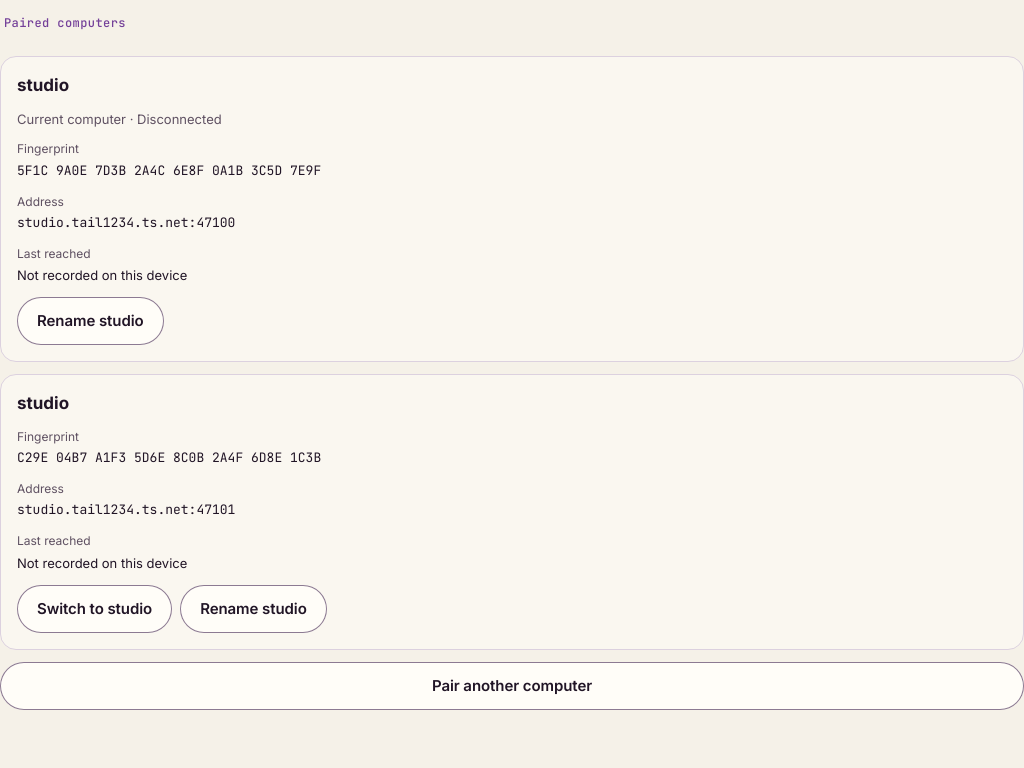
Test: renames a paired computer on this device
This screenshot has width=1024, height=768.
Click the button "Rename studio" below "studio.tail1234.ts.net:47101" at (253, 608), box [180,584,327,632]
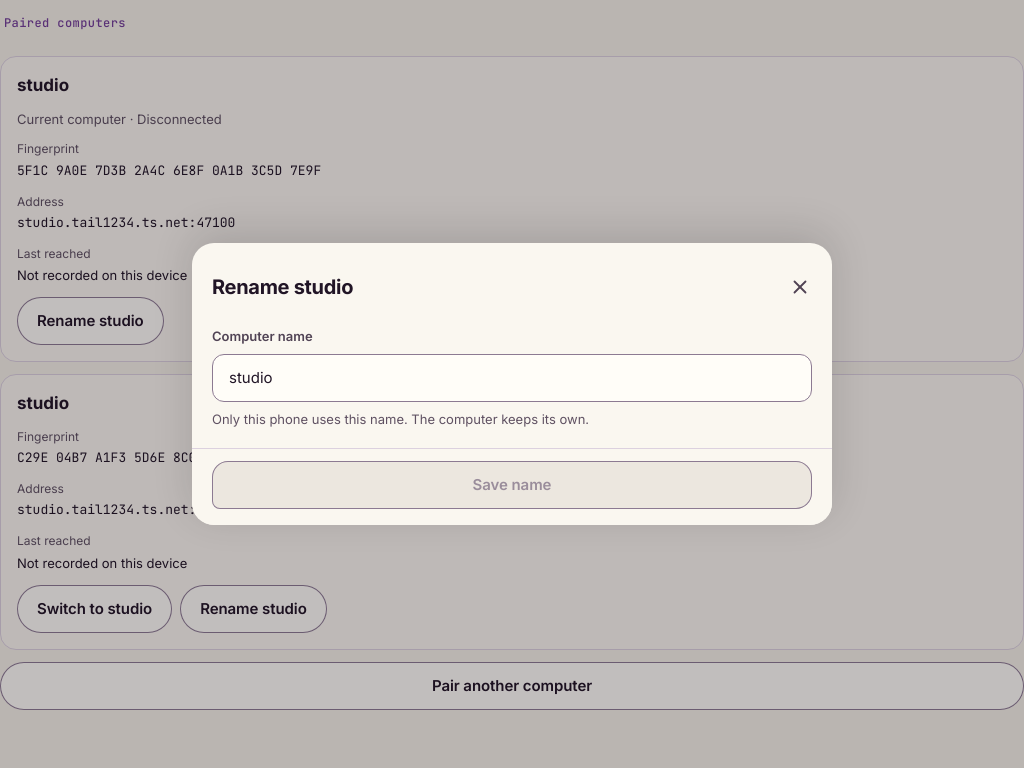
Now the field labelled "Computer name" holds "studio"
Replace the text in the field labelled "Computer name" with "  Old studio " at (512, 378), box [212,354,812,402]
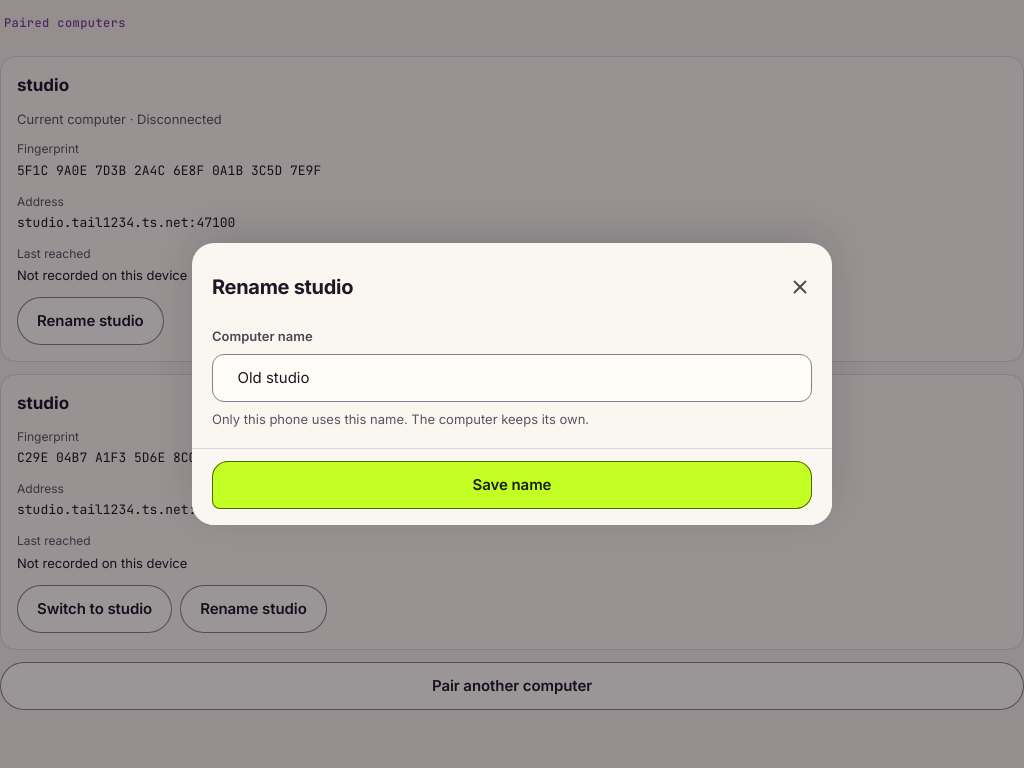
Click the button "Save name" at (512, 485), box [212,461,812,509]
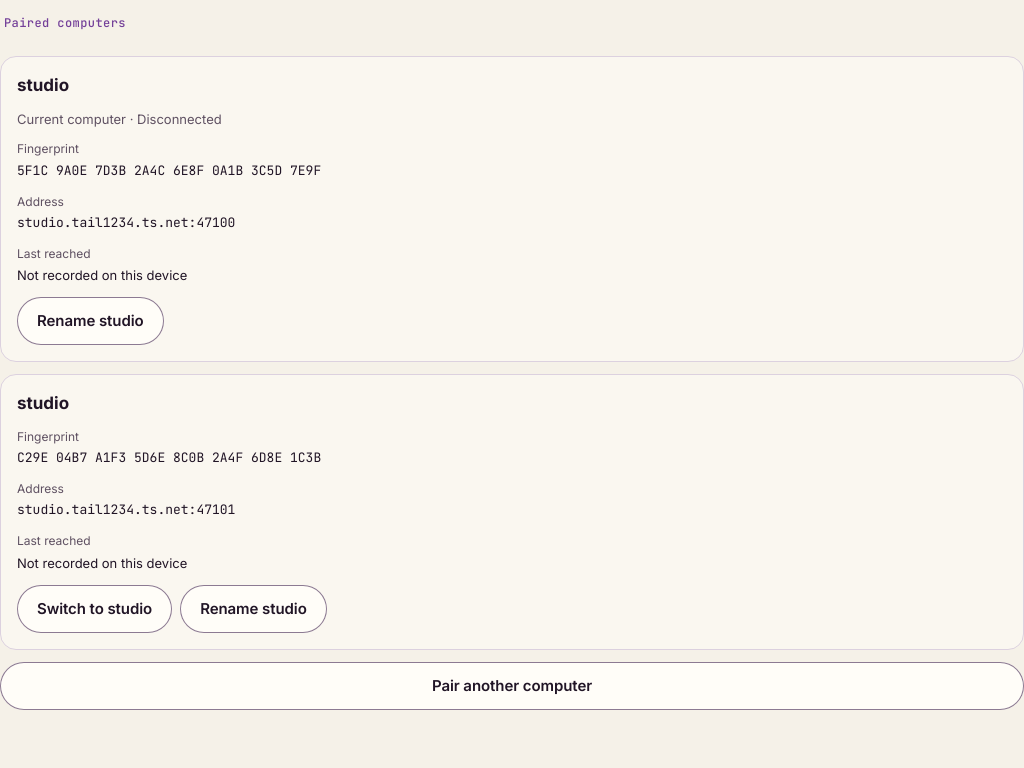
Now the label labelled "Computer name" is gone
